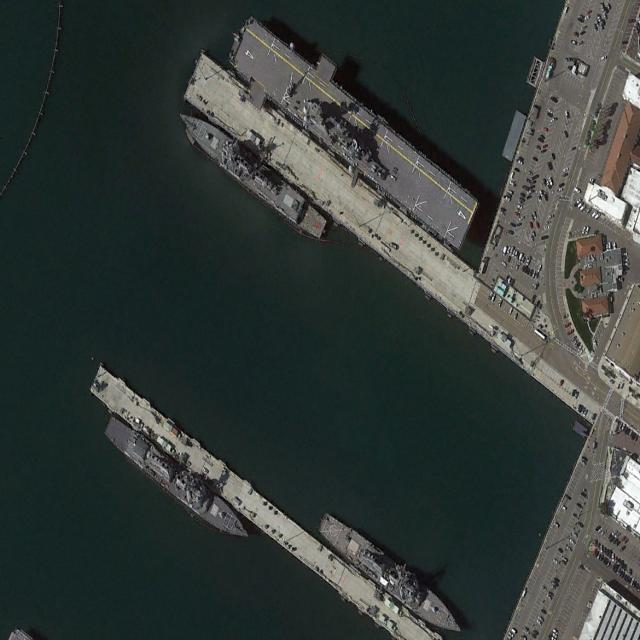Destroyer: (173, 97, 330, 245), (102, 411, 253, 548), (315, 506, 467, 640)
Landing: (219, 1, 485, 266)
